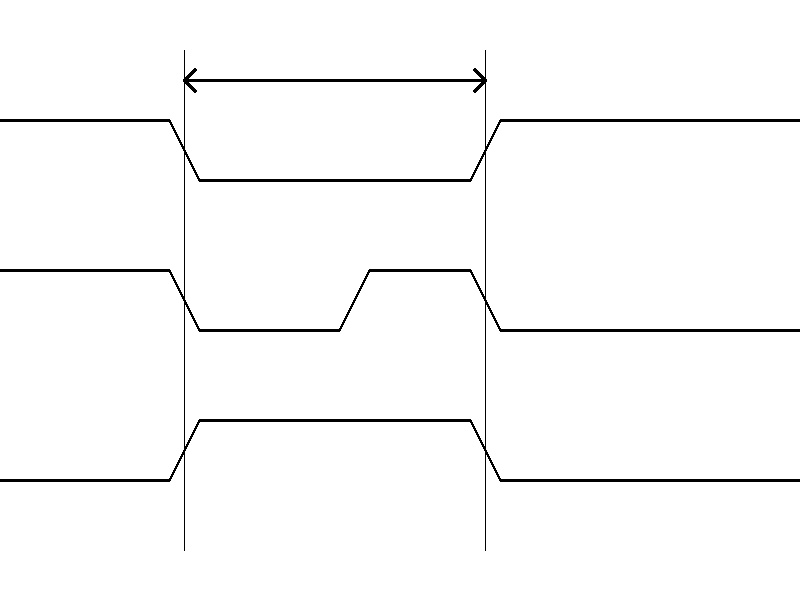double_arrow: (184, 65, 485, 95)
